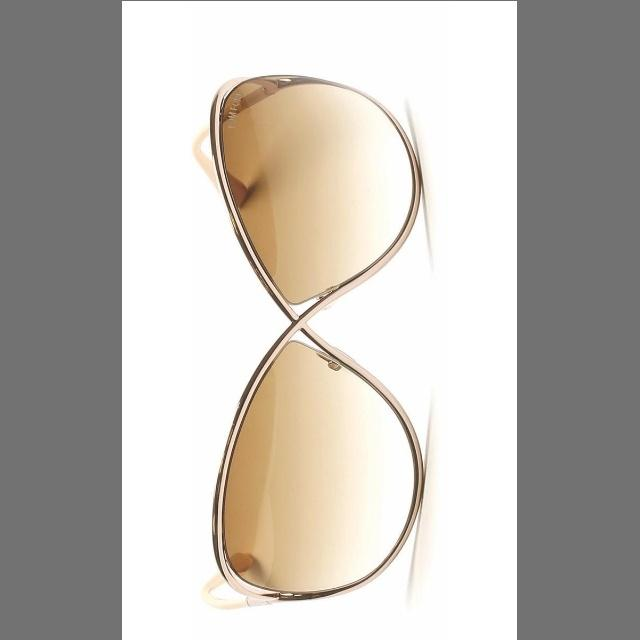Sunglasses: (172, 24, 484, 636)
